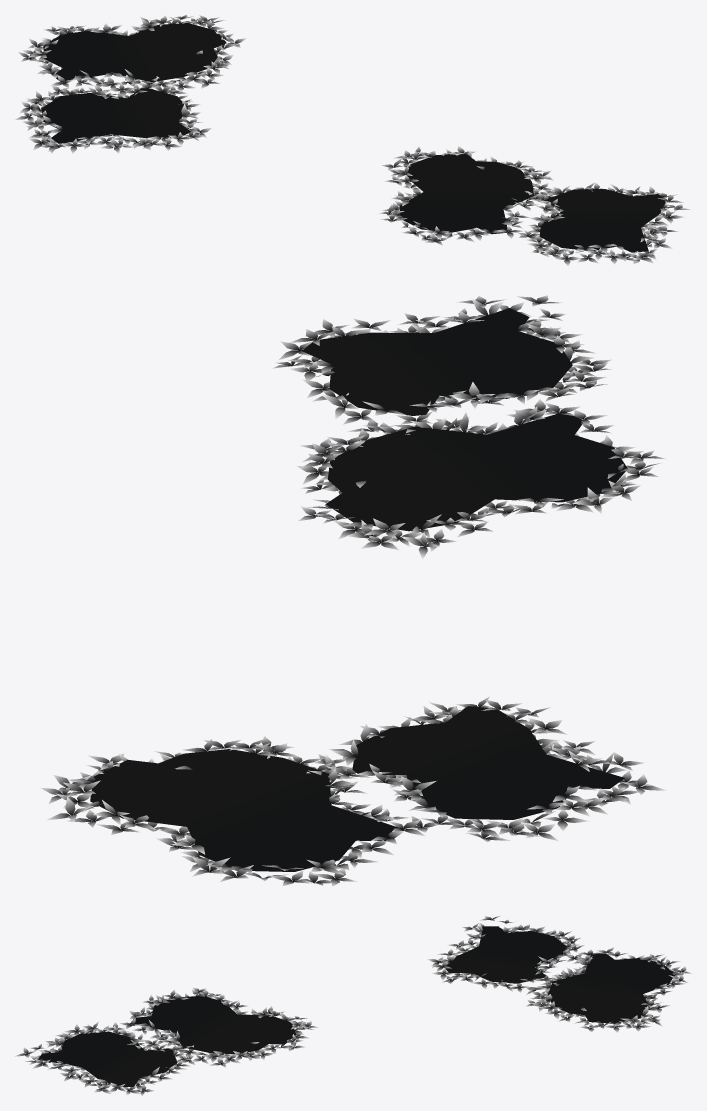
Rendered from SM_ENV_KNFRST_LeafShadow_GroupI.FBX.
3 renders of one model, top to bottom at view 1: azimuth 30°, elevation 25°; view 2: azimuth 150°, elevation 25°; view 3: azimuth 270°, elevation 25°, orthographic. The views are drawn at different scales.
Visible parts, largest first — view 1: SM_ENV_KNFRST_LeafShadow_GroupI; view 2: SM_ENV_KNFRST_LeafShadow_GroupI; view 3: SM_ENV_KNFRST_LeafShadow_GroupI.
Boxes of the visible parts, left/top/right/bottom form: SM_ENV_KNFRST_LeafShadow_GroupI: left=14, top=14, right=690, bottom=266; SM_ENV_KNFRST_LeafShadow_GroupI: left=40, top=295, right=666, bottom=886; SM_ENV_KNFRST_LeafShadow_GroupI: left=14, top=915, right=692, bottom=1095.
Size of the model in its own units: 1978 by 81.89 by 3121.
